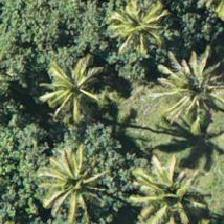coconut_tree: (12, 40, 102, 130), (59, 20, 149, 110), (151, 51, 223, 141), (87, 0, 177, 63), (0, 162, 89, 223), (0, 123, 49, 213)
